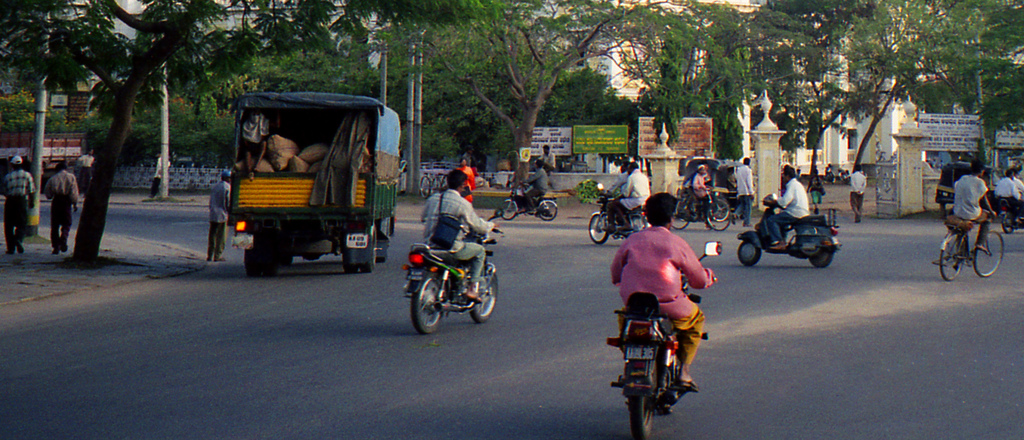Bike_away: (601, 286, 712, 435), (392, 223, 509, 336), (730, 200, 851, 275), (939, 211, 1013, 285)
